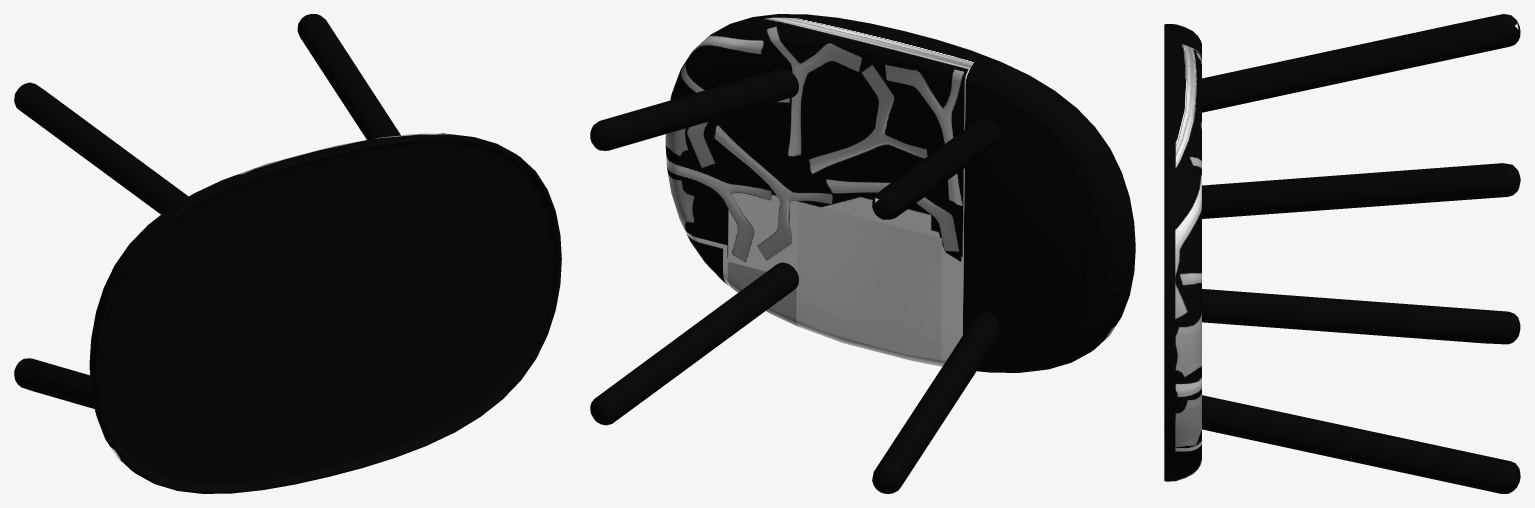
3 renders of one model, left to right at view 1: azimuth 30°, elevation 25°; view 2: azimuth 150°, elevation 25°; view 3: azimuth 270°, elevation 25°, orthographic. The views are drawn at different scales.
Bounding box in the file's own units: 0.6823 × 0.4502 × 0.4186.
